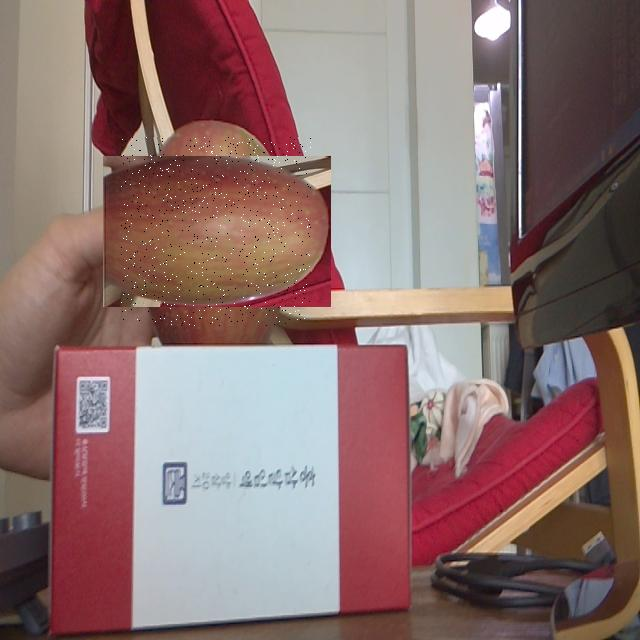apple: (121, 137, 312, 326)
